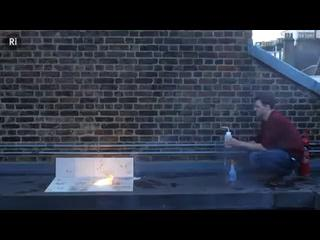Fire: (94, 176, 113, 186)
